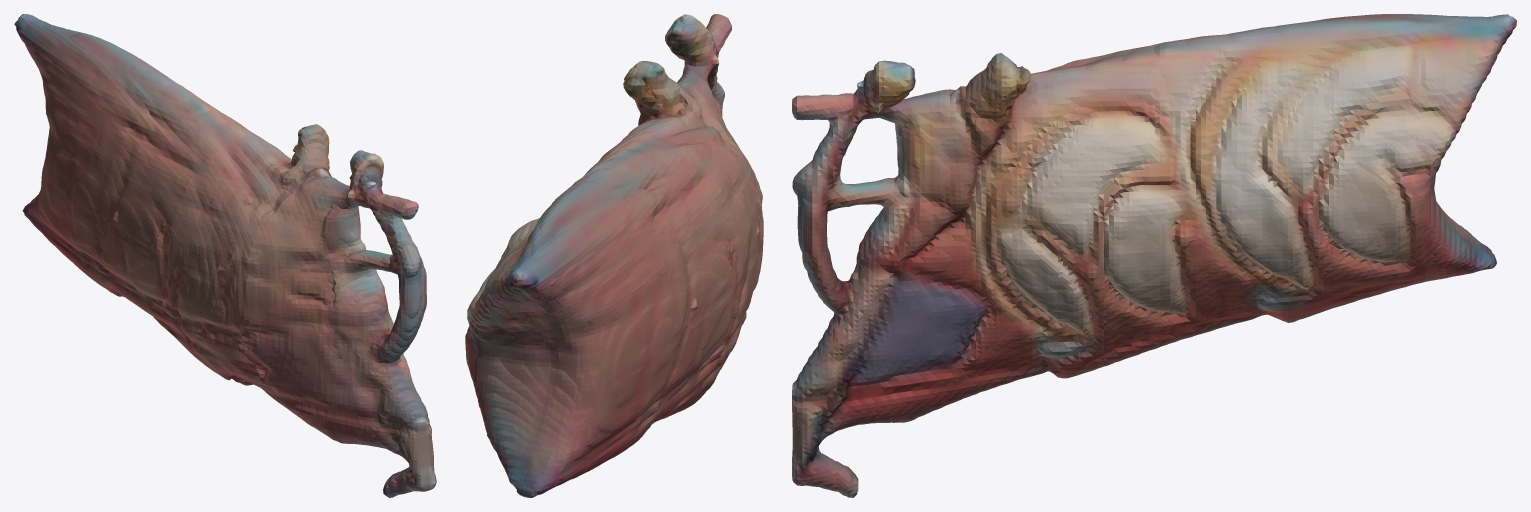
3 views of the same model, side by side, from view 1: azimuth 30°, elevation 25°; view 2: azimuth 150°, elevation 25°; view 3: azimuth 270°, elevation 25° (orthographic). The views are drawn at different scales.
Visible parts, largest first — view 1: world; view 2: world; view 3: world.
Part boxes in pixels (box(x1,y1,x2,y2)): world: box(14, 14, 436, 497); world: box(465, 14, 763, 497); world: box(792, 14, 1516, 497).
Size of the model in its own units: 0.331 by 0.6314 by 0.9674.
